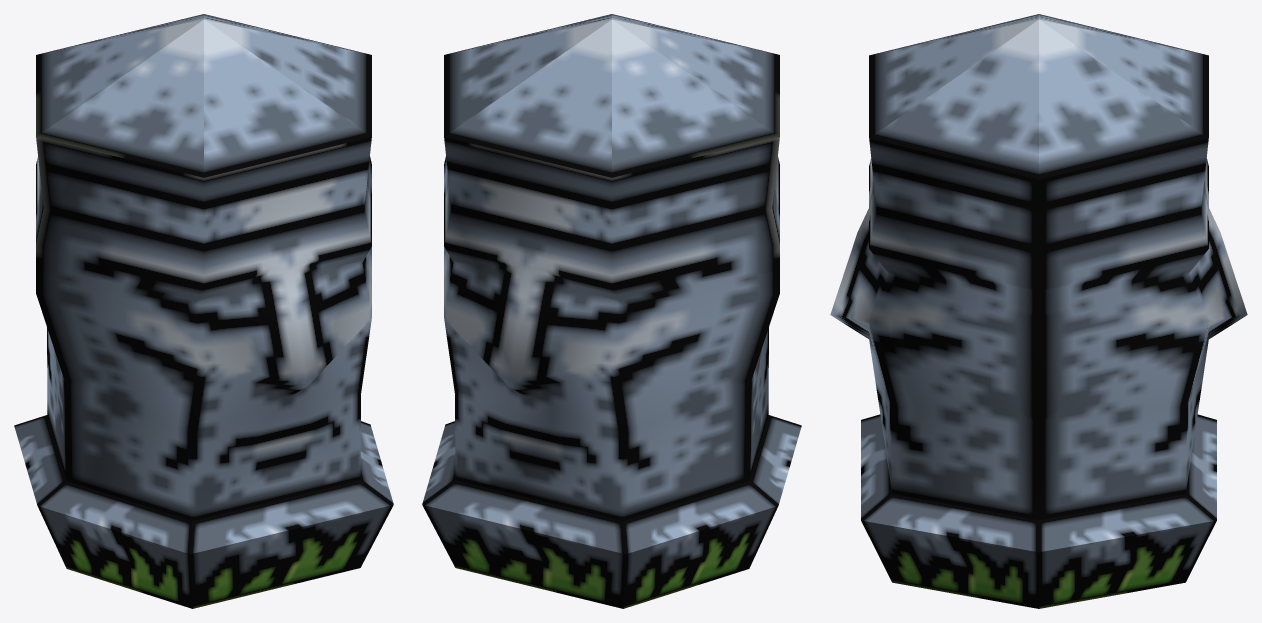
The model's file is deco_statueSmall.FBX.
3 renders of one model, left to right at view 1: azimuth 30°, elevation 25°; view 2: azimuth 150°, elevation 25°; view 3: azimuth 270°, elevation 25°, orthographic.
Visible parts, largest first — view 1: deco_statueSmall; view 2: deco_statueSmall; view 3: deco_statueSmall.
Part boxes in pixels (<box>): deco_statueSmall: <box>14,14,393,608</box>; deco_statueSmall: <box>422,14,801,608</box>; deco_statueSmall: <box>830,14,1247,608</box>.
Bounding box in the file's own units: 1.5 × 2.2 × 1.6.
Materials: 1 (1 with a texture image).
